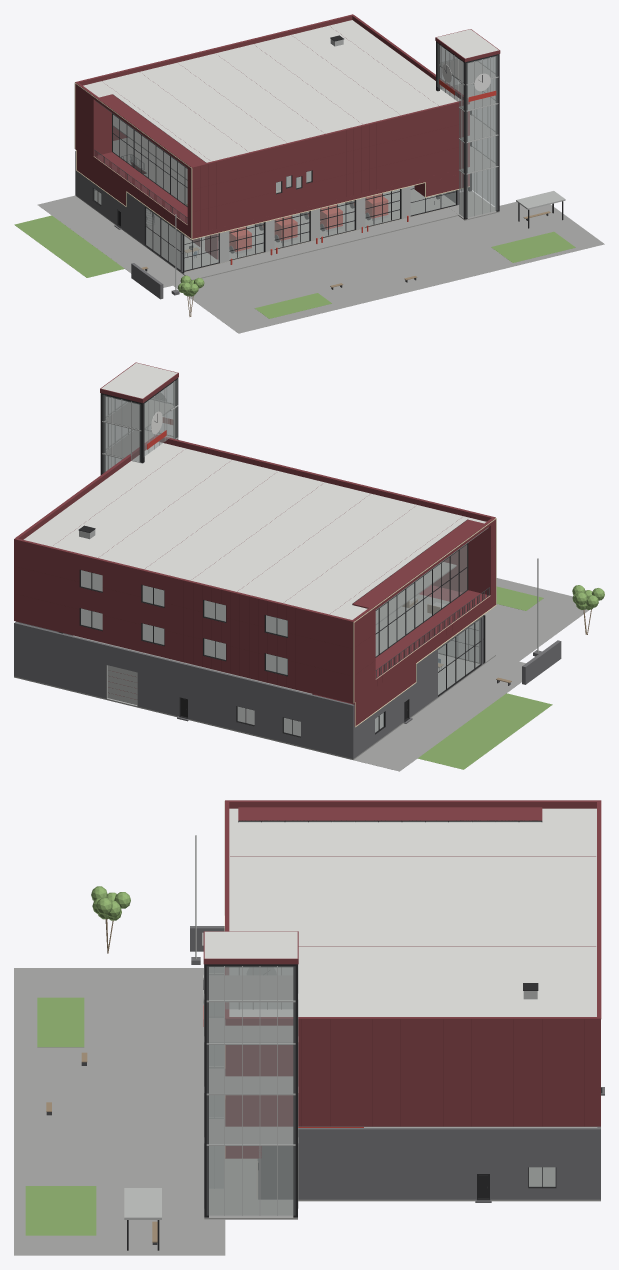
The model's file is clay-cantilever-fire-station-clay-v008.glb.
The picture shows the model from 3 angles, top to bottom: view 1: azimuth 30°, elevation 25°; view 2: azimuth 150°, elevation 25°; view 3: azimuth 270°, elevation 25°; orthographic projection. The views are drawn at different scales.
Parts seen in each view (by area): view 1: CLAY_FOUNDATION, CLAY_WALL, CLAY_ROOF, CLAY_GLASS, CLAY_TRIM, CLAY_PLANTING, CLAY_FLOOR, CLAY_PALE, CLAY_STONE, CLAY_RED, CLAY_GLOW, CLAY_HARDWARE (+1 smaller); view 2: CLAY_ROOF, CLAY_WALL, CLAY_STONE, CLAY_FOUNDATION, CLAY_GLASS, CLAY_FLOOR, CLAY_PLANTING, CLAY_TRIM, CLAY_PALE, CLAY_JOINT, CLAY_GLOW, CLAY_HARDWARE; view 3: CLAY_ROOF, CLAY_FOUNDATION, CLAY_WALL, CLAY_STONE, CLAY_GLASS, CLAY_FLOOR, CLAY_PLANTING, CLAY_PALE, CLAY_TRIM, CLAY_JOINT.
Part boxes in pixels (x1=…): CLAY_FOUNDATION: x1=37, y1=186, x2=604, y2=333; CLAY_WALL: x1=75, y1=14, x2=500, y2=259; CLAY_ROOF: x1=83, y1=20, x2=498, y2=162; CLAY_GLASS: x1=94, y1=43, x2=497, y2=270; CLAY_TRIM: x1=92, y1=35, x2=563, y2=273; CLAY_PLANTING: x1=14, y1=215, x2=575, y2=318; CLAY_FLOOR: x1=95, y1=59, x2=495, y2=204; CLAY_PALE: x1=127, y1=39, x2=565, y2=291; CLAY_STONE: x1=75, y1=151, x2=459, y2=299; CLAY_RED: x1=218, y1=79, x2=496, y2=264; CLAY_GLOW: x1=74, y1=82, x2=469, y2=239; CLAY_HARDWARE: x1=94, y1=149, x2=548, y2=289; CLAY_ROOF: x1=23, y1=363, x2=486, y2=619; CLAY_WALL: x1=14, y1=362, x2=495, y2=726; CLAY_STONE: x1=14, y1=615, x2=561, y2=758; CLAY_FOUNDATION: x1=14, y1=578, x2=598, y2=771; CLAY_GLASS: x1=81, y1=379, x2=483, y2=736; CLAY_FLOOR: x1=81, y1=399, x2=488, y2=674; CLAY_PLANTING: x1=418, y1=585, x2=604, y2=769; CLAY_TRIM: x1=58, y1=378, x2=485, y2=737; CLAY_PALE: x1=79, y1=381, x2=538, y2=706; CLAY_JOINT: x1=18, y1=454, x2=457, y2=699; CLAY_GLOW: x1=353, y1=518, x2=496, y2=727; CLAY_HARDWARE: x1=186, y1=587, x2=510, y2=710; CLAY_ROOF: x1=204, y1=808, x2=596, y2=1016; CLAY_FOUNDATION: x1=14, y1=968, x2=600, y2=1255; CLAY_WALL: x1=203, y1=800, x2=601, y2=1158; CLAY_STONE: x1=190, y1=926, x2=604, y2=1202; CLAY_GLASS: x1=207, y1=821, x2=555, y2=1215; CLAY_FLOOR: x1=209, y1=975, x2=596, y2=1143; CLAY_PLANTING: x1=25, y1=886, x2=130, y2=1235; CLAY_PALE: x1=124, y1=835, x2=537, y2=1219; CLAY_TRIM: x1=127, y1=820, x2=602, y2=1250; CLAY_JOINT: x1=230, y1=856, x2=595, y2=1126.
Bounding box in the file's own units: 67 × 24.51 × 50.34.
